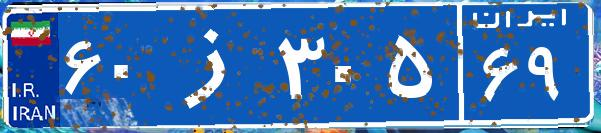0: (330, 28, 385, 110), (110, 28, 158, 105)
3: (273, 28, 330, 110)
5: (385, 28, 445, 110)
6: (57, 26, 110, 107), (475, 38, 525, 113)
9: (525, 38, 570, 115)
ز: (158, 15, 273, 115)
